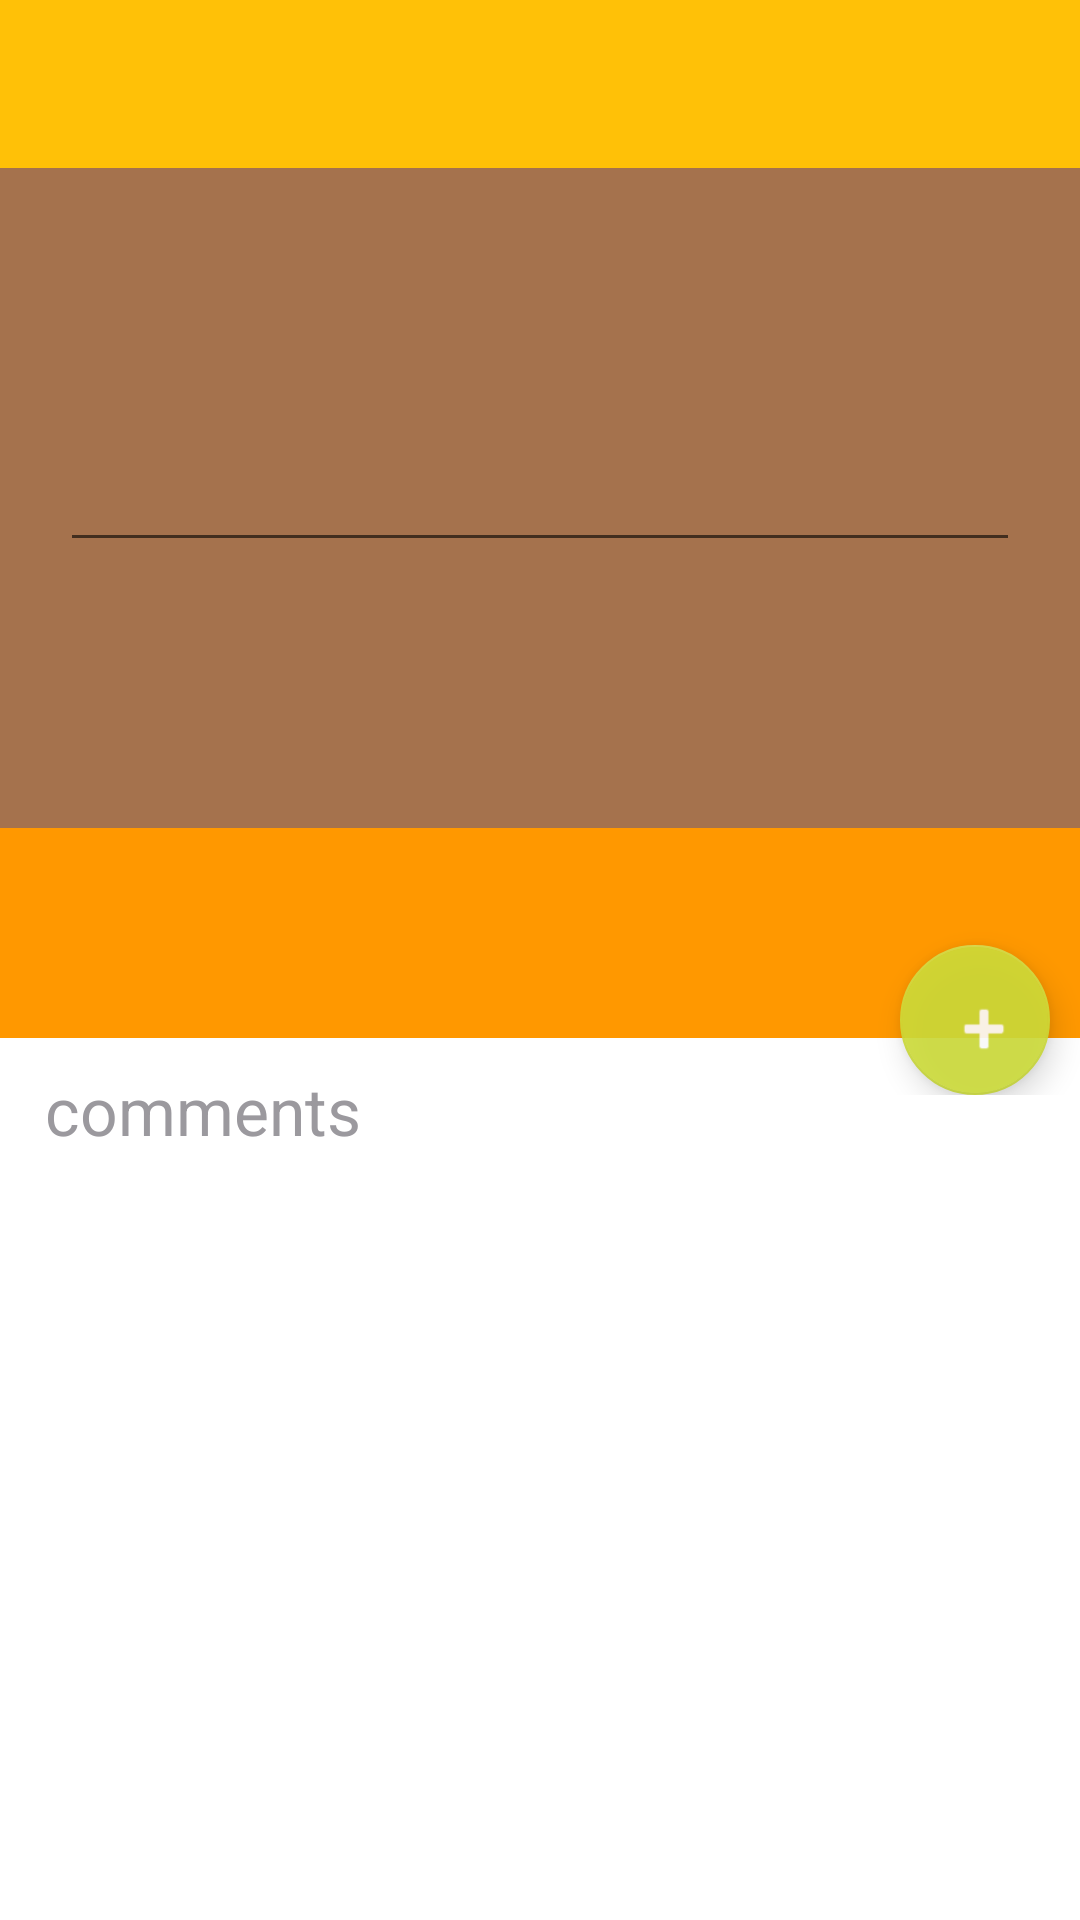

Named icons in this screenshot (1080×1920) and their centers, (x,y):
add: (975,1020)
